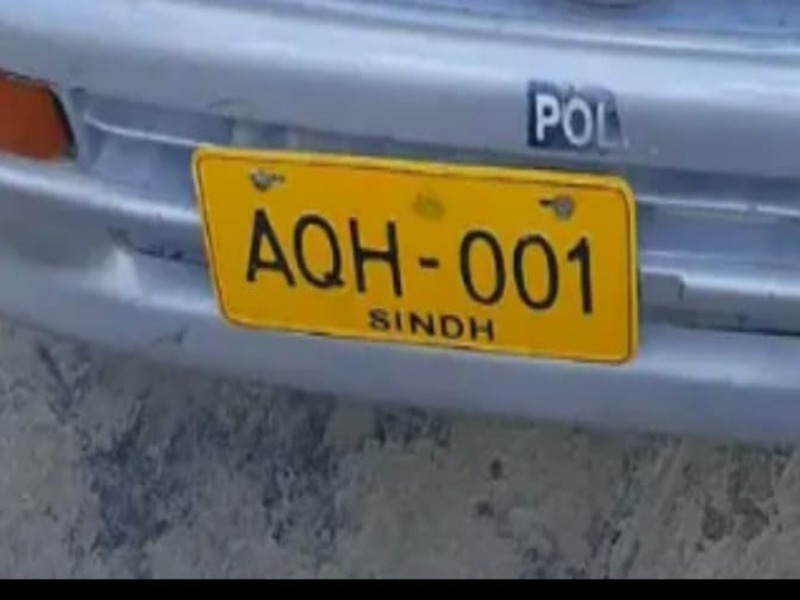License Plate: (189, 140, 640, 372)
